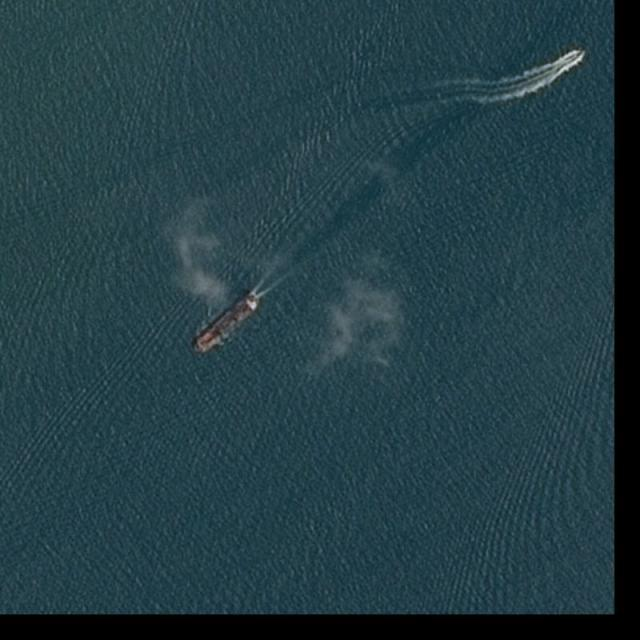ship: (198, 295, 259, 351), (574, 49, 587, 59)
